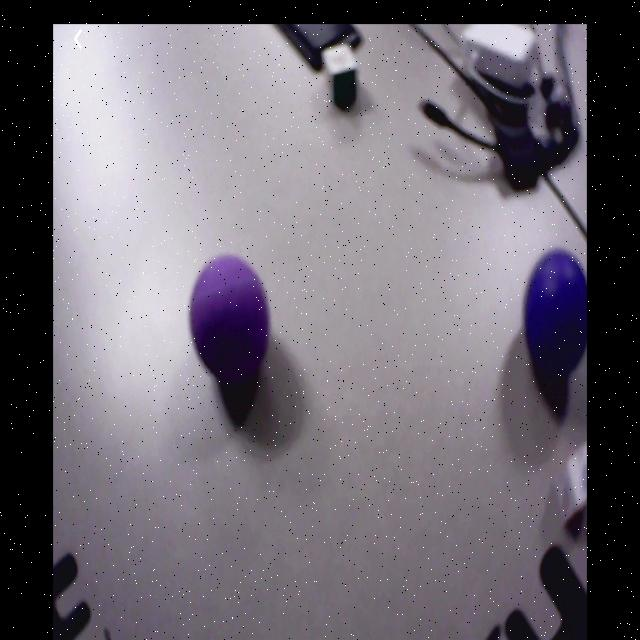ball: (190, 254, 270, 374), (526, 254, 586, 371)
